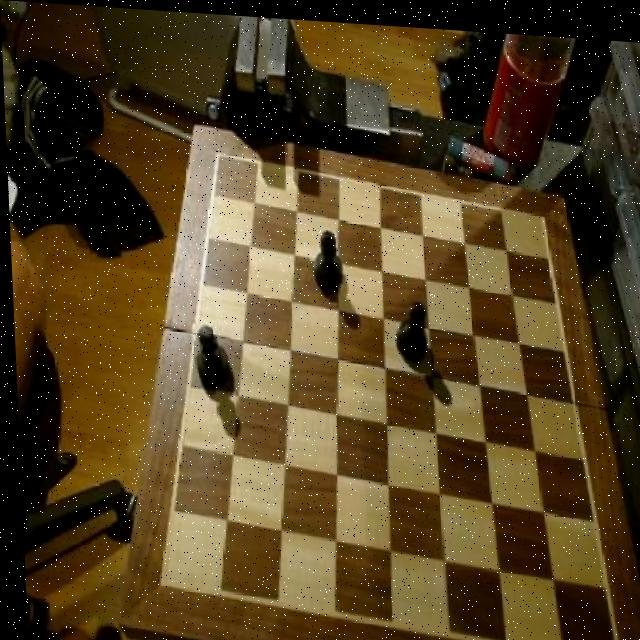black-knight: (188, 322, 230, 396), (389, 292, 427, 360), (306, 224, 343, 291)
